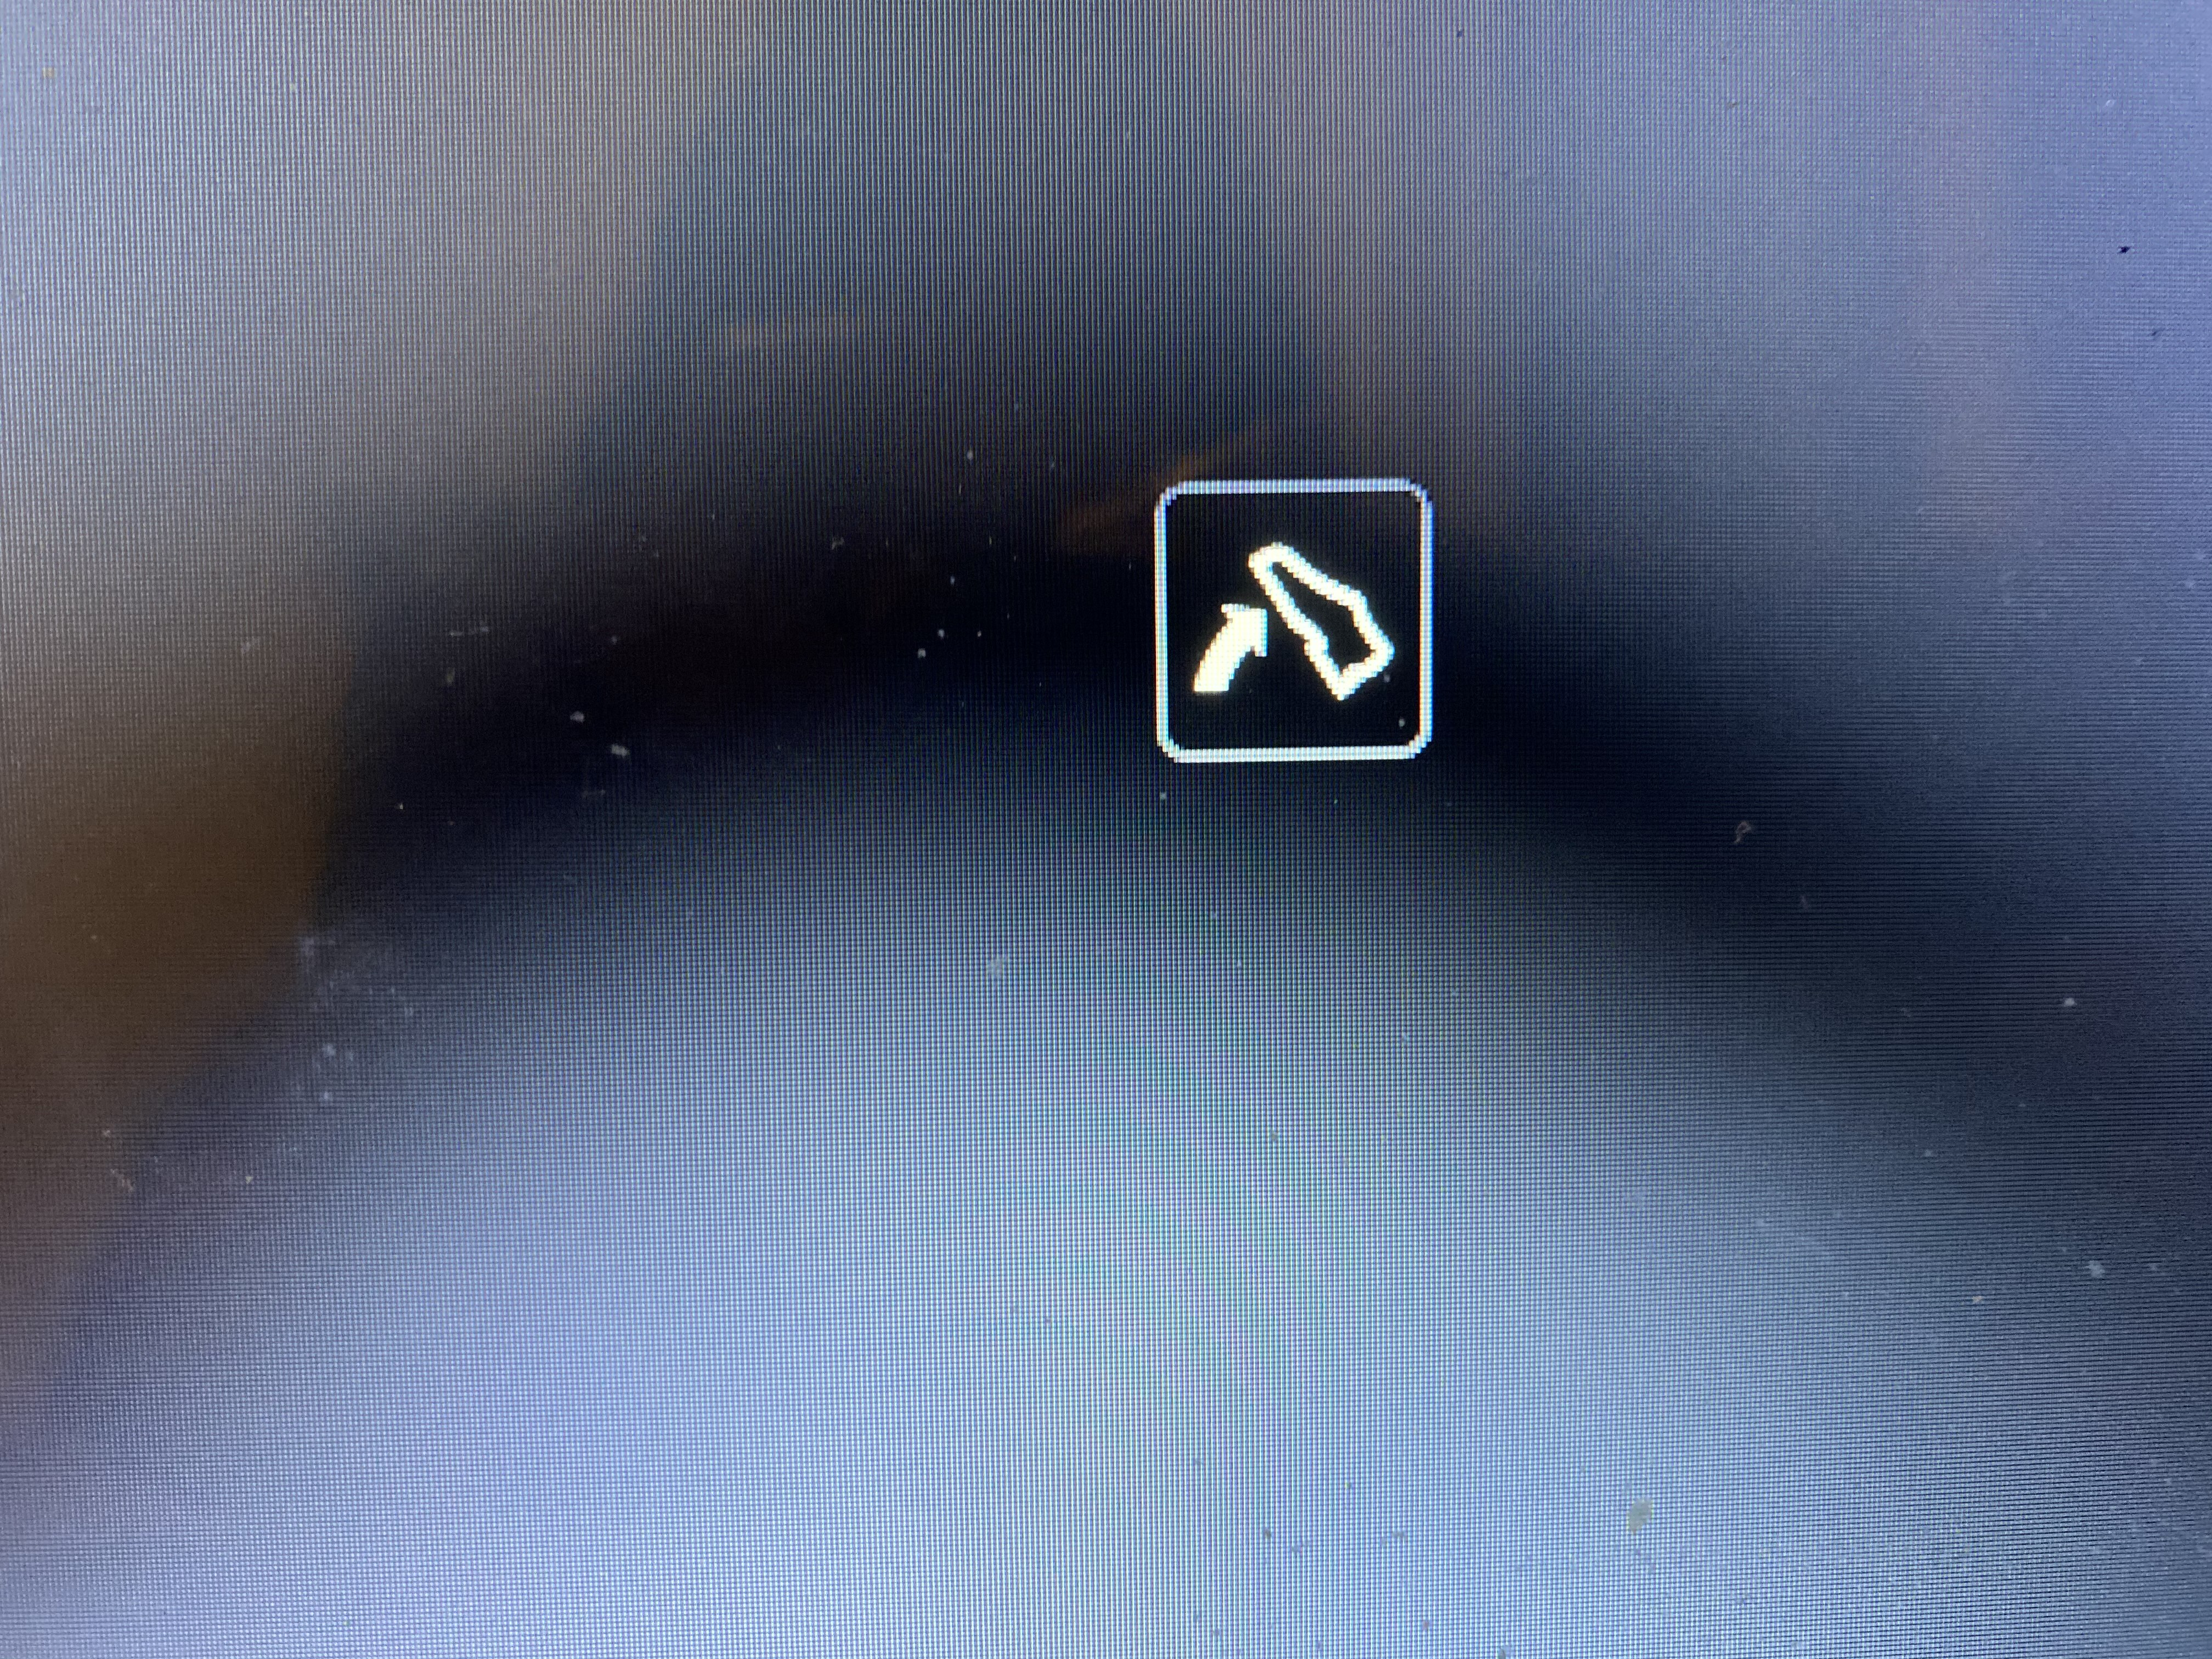ACCELERATOR_R: (1111, 448, 1510, 830)
